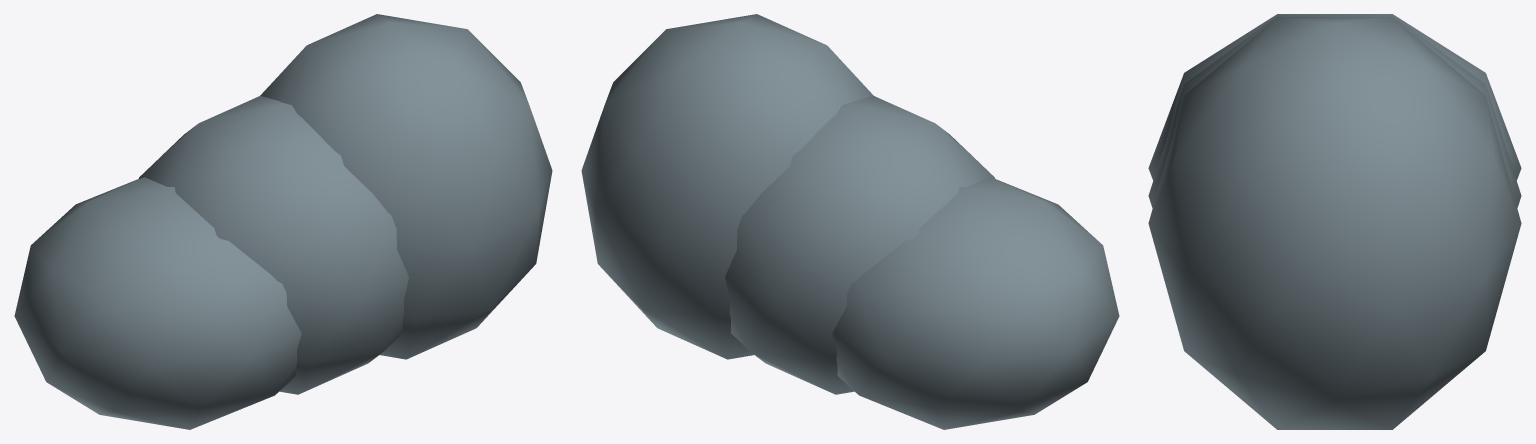
File: Coastal_rocks.glb
The picture shows the model from 3 angles, left to right: view 1: azimuth 30°, elevation 25°; view 2: azimuth 150°, elevation 25°; view 3: azimuth 270°, elevation 25°; orthographic projection. The views are drawn at different scales.
Parts seen in each view (by area): view 1: Rock.002, Rock, Rock.001; view 2: Rock.002, Rock, Rock.001; view 3: Rock.002, Rock.001, Rock.
Boxes of the visible parts, <box> form: Rock.002: <box>260,14,552,359</box>; Rock: <box>14,177,301,429</box>; Rock.001: <box>138,96,408,394</box>; Rock.002: <box>581,14,873,359</box>; Rock: <box>832,177,1119,429</box>; Rock.001: <box>725,96,995,394</box>; Rock.002: <box>1148,17,1521,429</box>; Rock.001: <box>1148,15,1521,207</box>; Rock: <box>1148,14,1521,180</box>.
Bounding box in the file's own units: 2.04 × 1.34 × 1.1.
